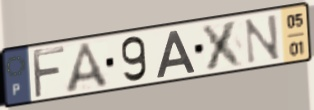9: (120, 34, 149, 83)
A: (63, 40, 112, 96), (155, 28, 198, 80)
F: (30, 45, 68, 101)
N: (243, 12, 283, 66)
X: (199, 17, 248, 72)
